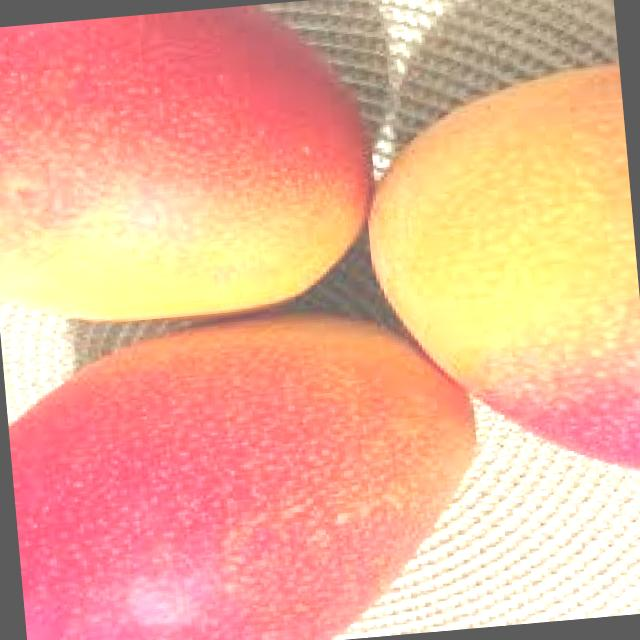Mango: (3, 297, 499, 640), (0, 0, 388, 336), (355, 62, 640, 498)
